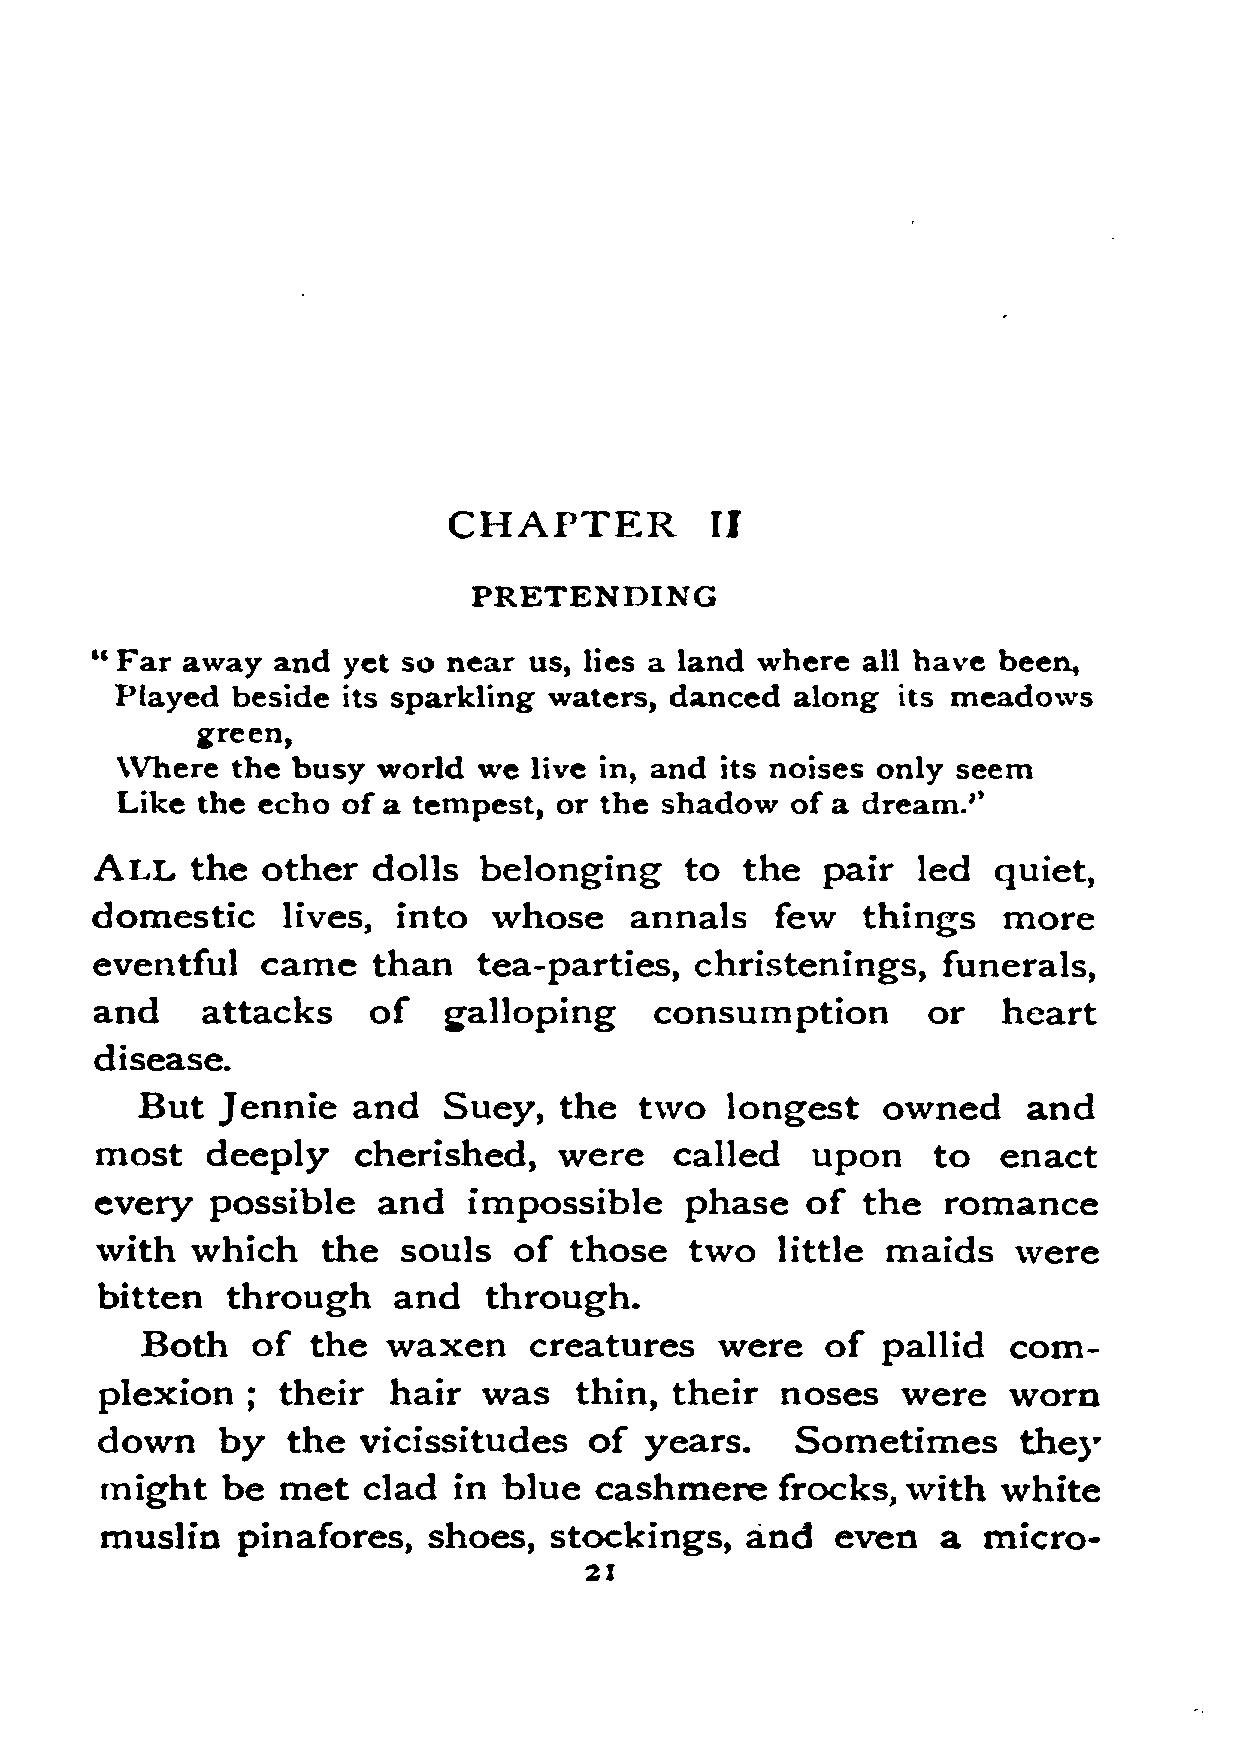chapter: (446, 505, 743, 607)
content: (89, 646, 1104, 1555)
content_pagenumber: (582, 1557, 617, 1584)
